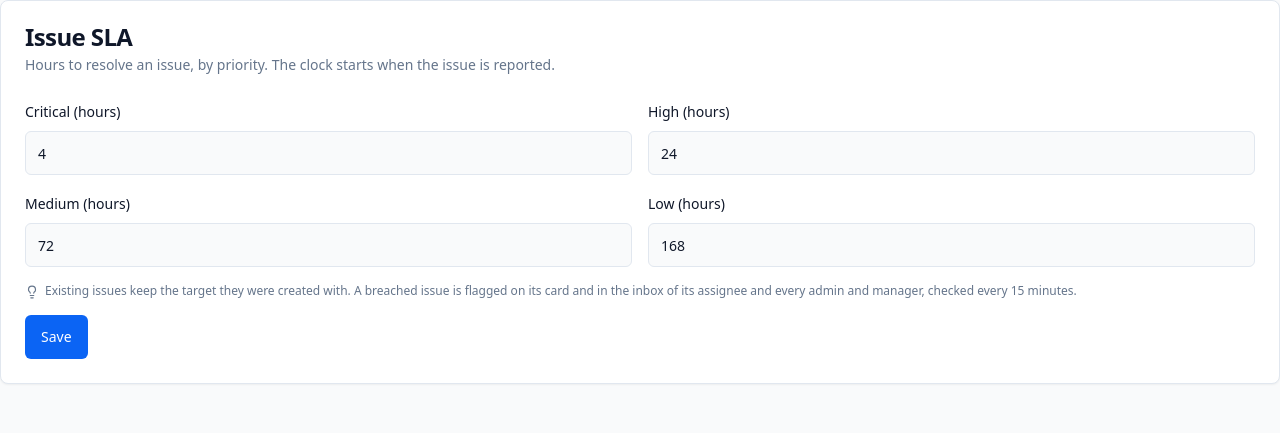
SlaSettingsCard › rejects a fractional hour and marks only that field invalid, linked to the message
Replace the text in the number field labelled "High (hours)" with "4.5" at (952, 153), box [648,131,1255,175]
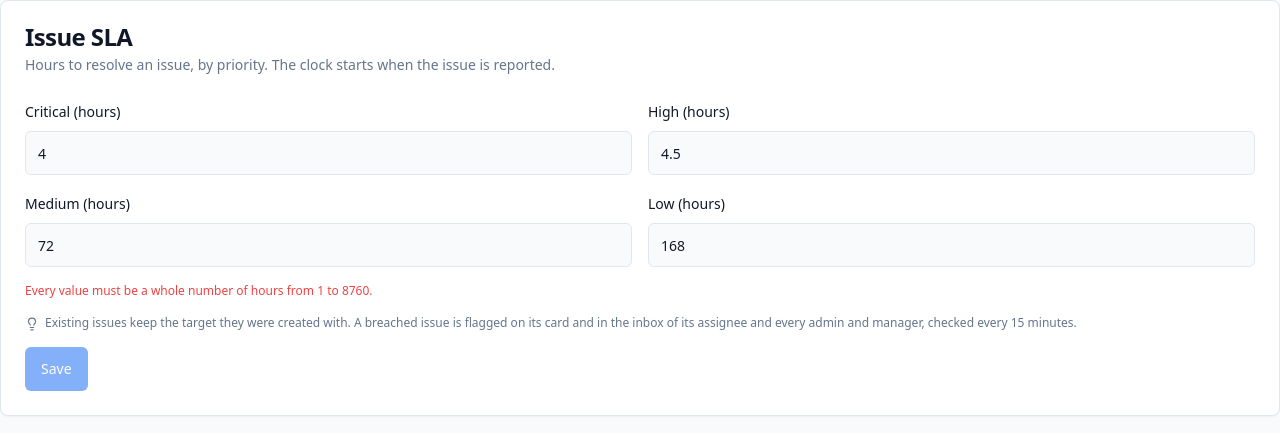
Check: the button "Save" is disabled, box [25,347,88,391]
